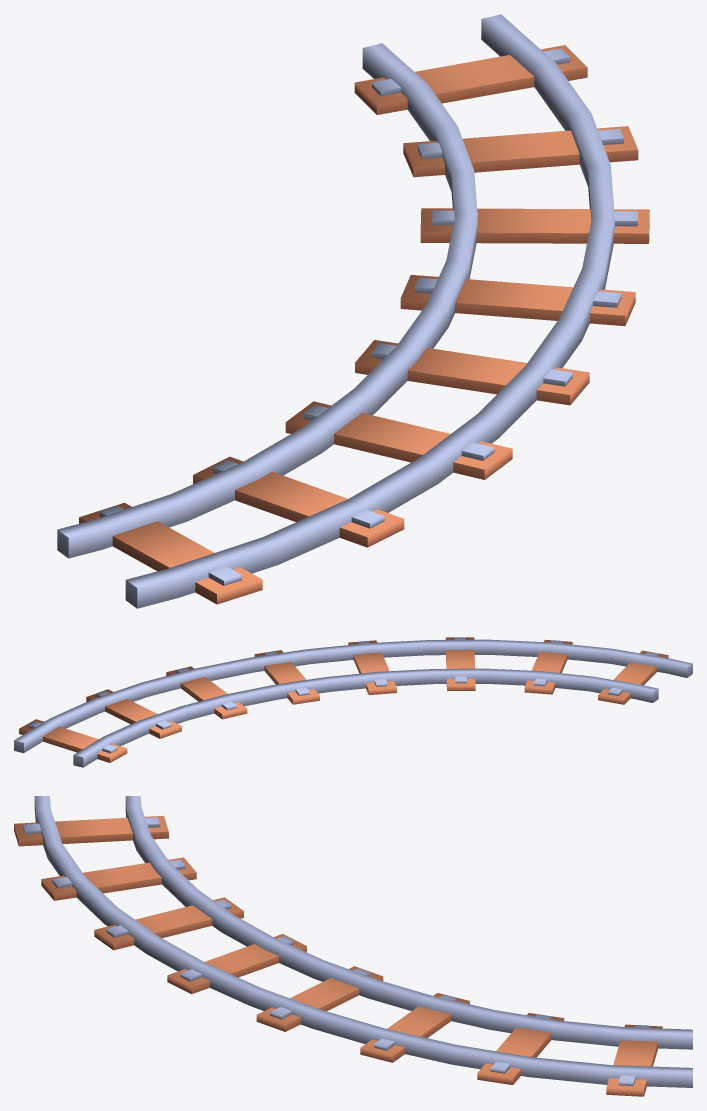
The model's file is railroad-corner-large.glb.
The picture shows the model from 3 angles, top to bottom: view 1: azimuth 30°, elevation 25°; view 2: azimuth 150°, elevation 25°; view 3: azimuth 270°, elevation 25°; orthographic projection. The views are drawn at different scales.
Parts seen in each view (by area): view 1: railroad-corner-large; view 2: railroad-corner-large; view 3: railroad-corner-large.
Part boxes in pixels (x1,y1,x2,y2): railroad-corner-large: (57,14,649,608); railroad-corner-large: (14,637,692,767); railroad-corner-large: (14,796,692,1096).
Bounding box in the file's own units: 4.49 × 0.1 × 4.49.
1 material, 1 textured.
